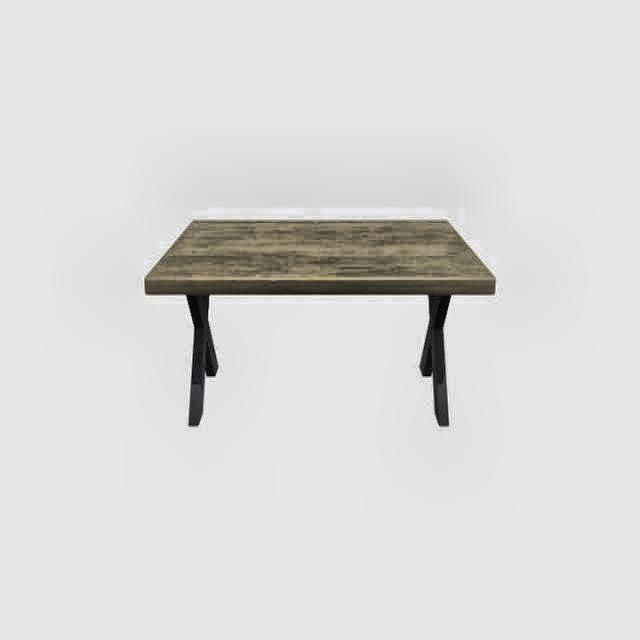mesa: (145, 216, 495, 428)
